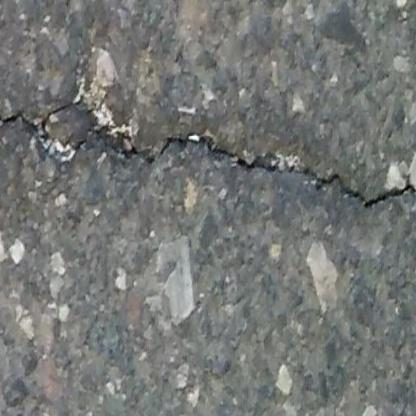Cracks: (0, 95, 416, 215)
